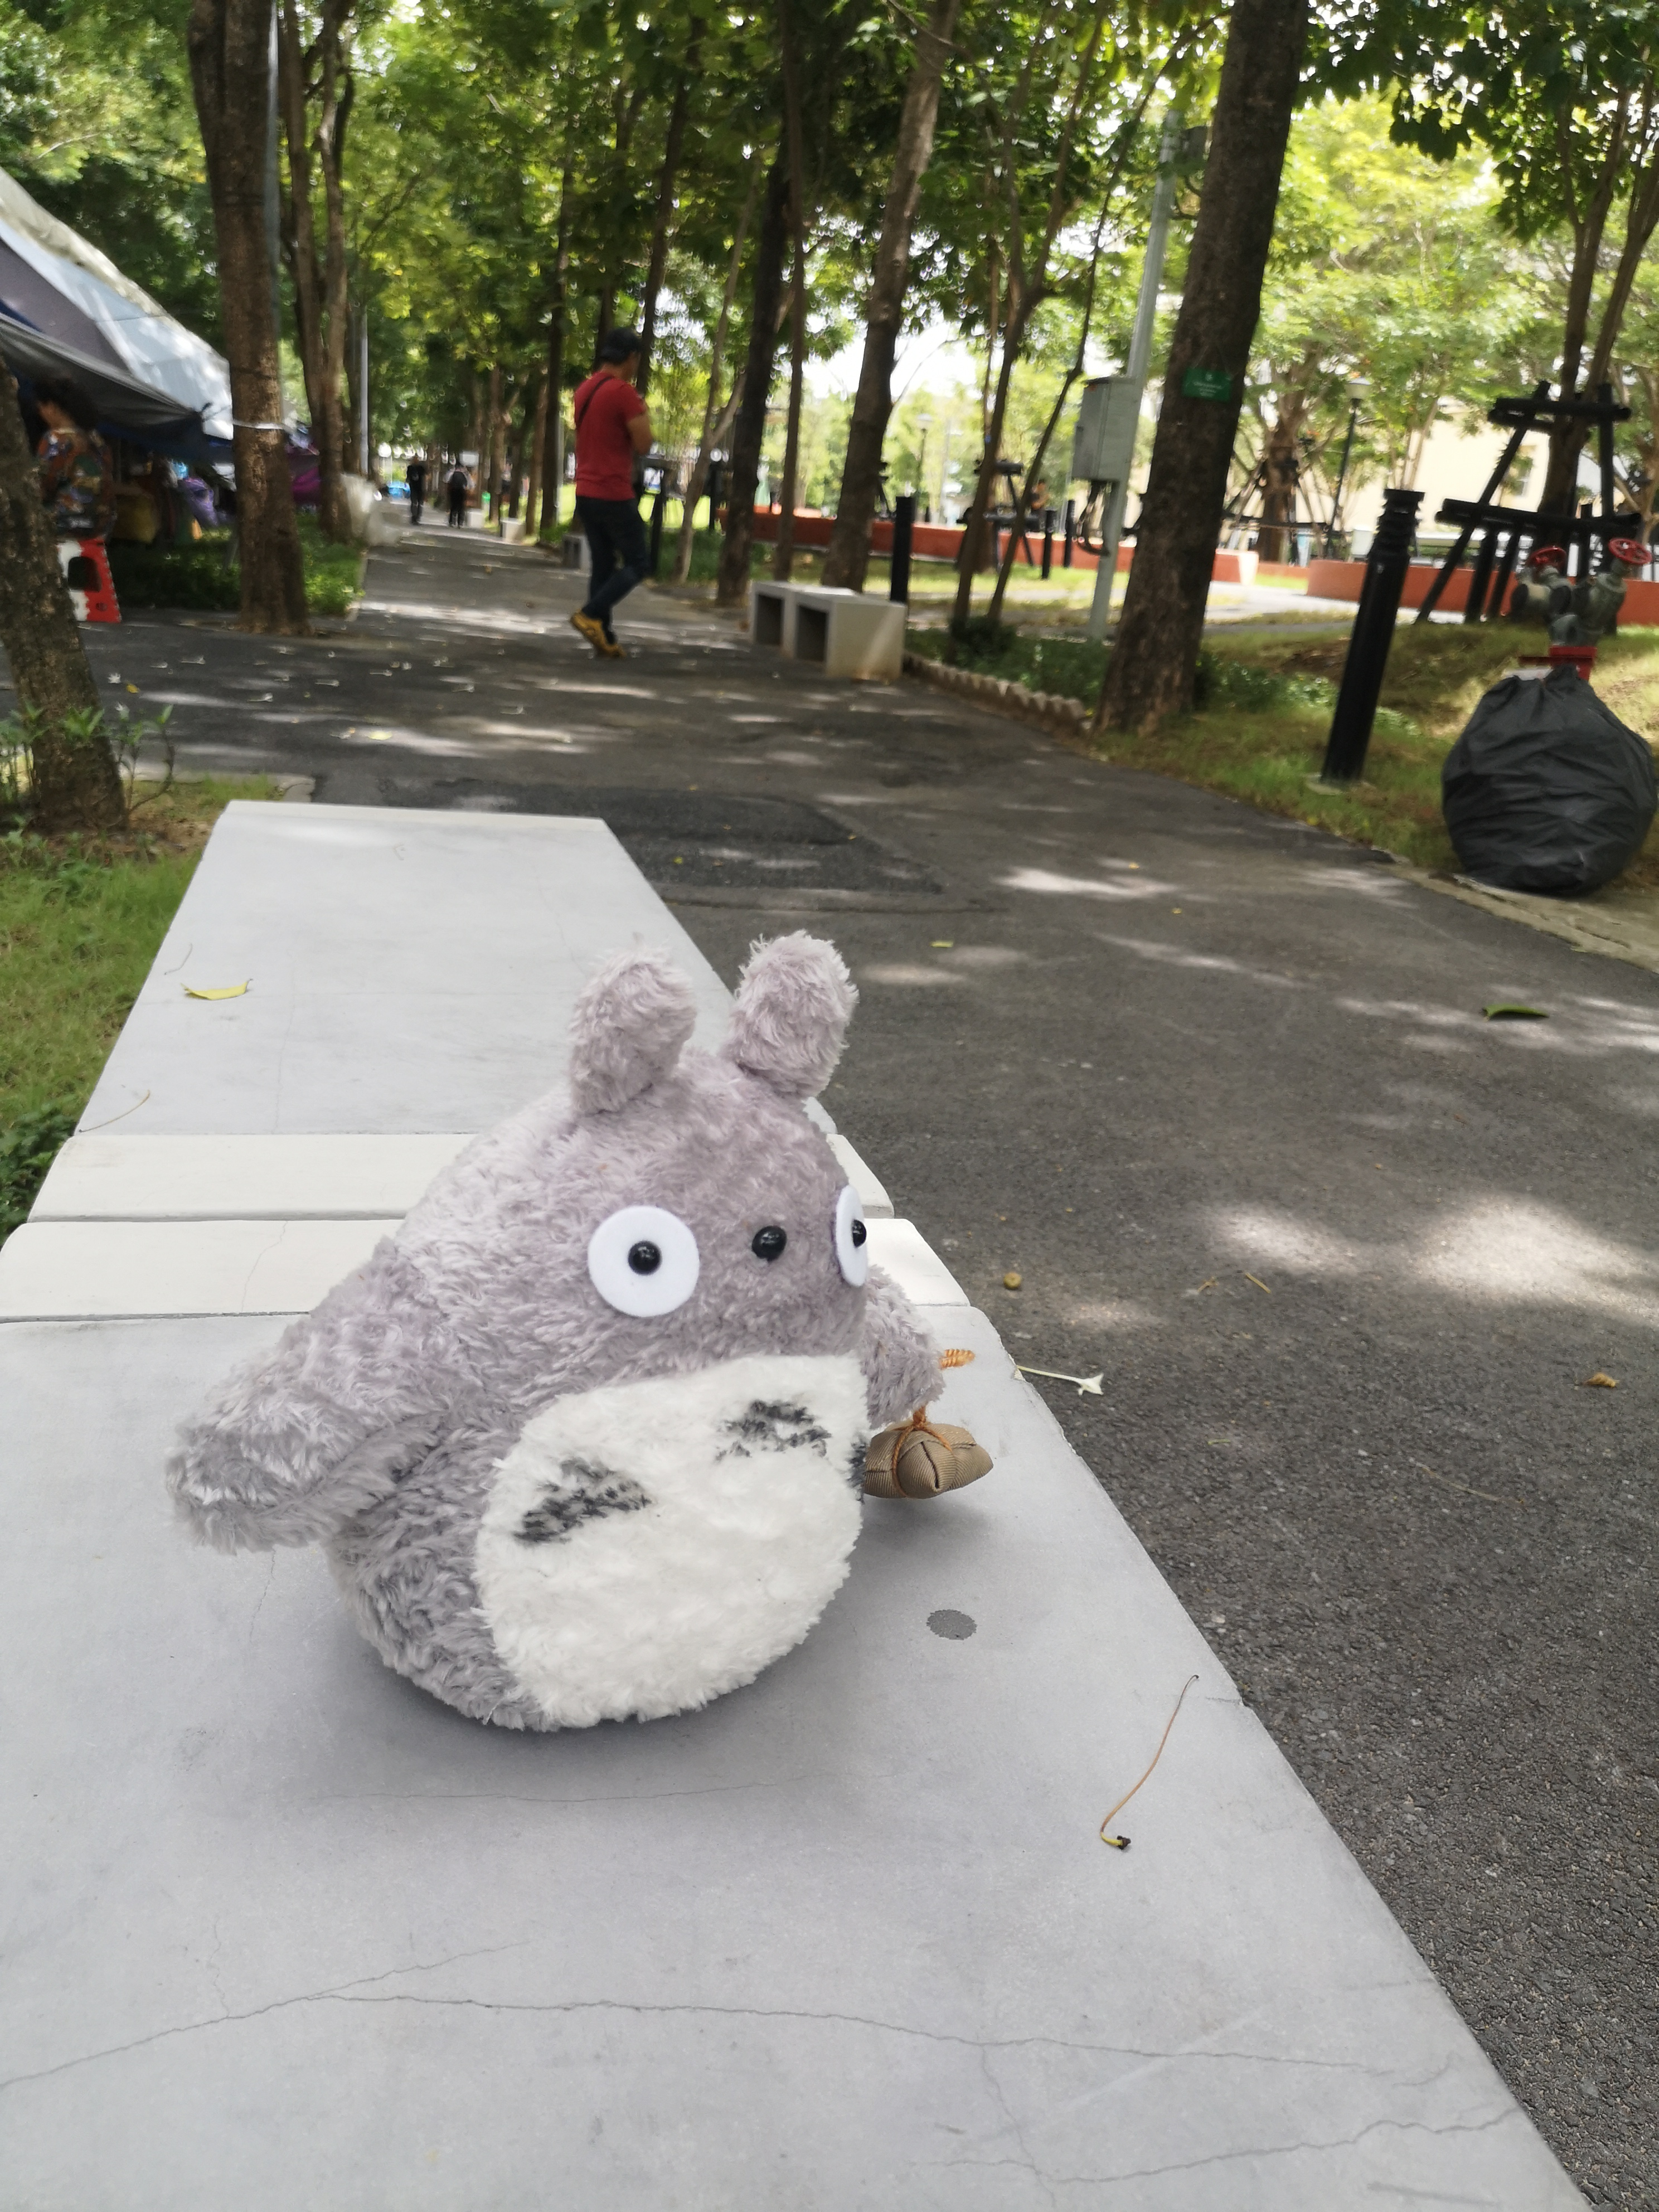totoro: (166, 925, 1007, 1761)
